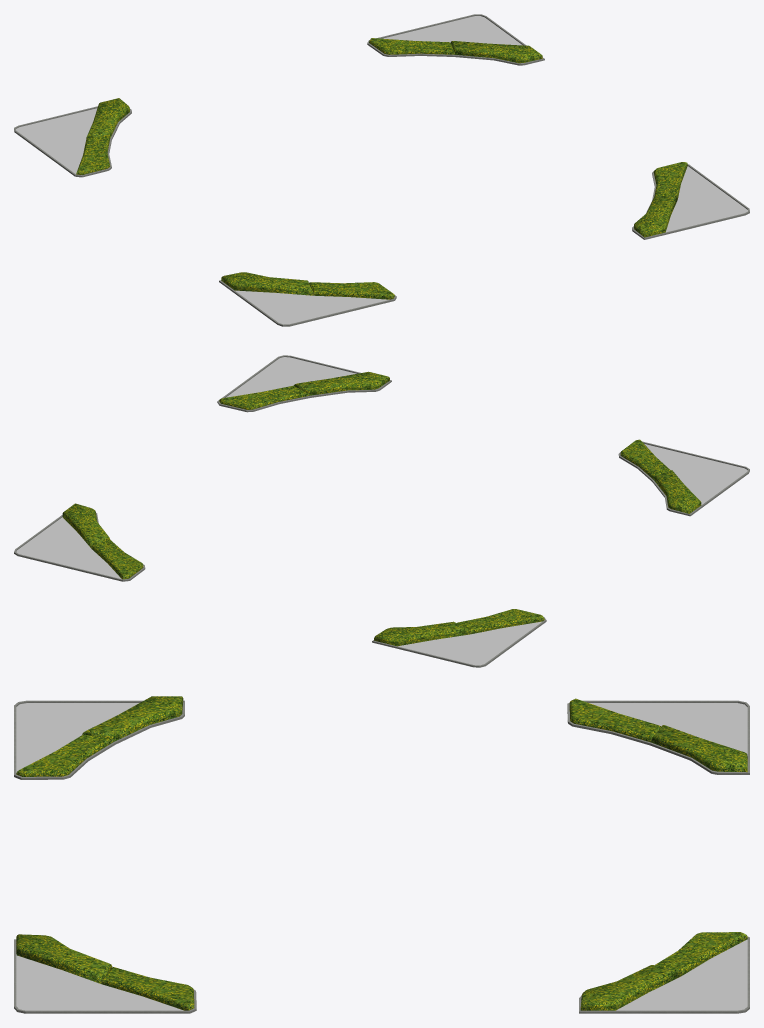
Rendered from Office_006_grass.FBX.
3 views of the same model, one above another, from view 1: azimuth 30°, elevation 25°; view 2: azimuth 150°, elevation 25°; view 3: azimuth 270°, elevation 25° (orthographic). The views are drawn at different scales.
Parts seen in each view (by area): view 1: Office_006_grass2, Office_006_grass1, Office_006_grass3; view 2: Office_006_grass2, Office_006_grass1, Office_006_grass3; view 3: Office_006_grass2, Office_006_grass1, Office_006_grass3.
Part boxes in pixels (left/top/right/bottom): Office_006_grass2: left=16, top=16, right=747, bottom=324; Office_006_grass1: left=76, top=38, right=687, bottom=299; Office_006_grass3: left=14, top=14, right=749, bottom=326; Office_006_grass2: left=16, top=357, right=747, bottom=665; Office_006_grass1: left=62, top=371, right=701, bottom=646; Office_006_grass3: left=14, top=355, right=749, bottom=667; Office_006_grass2: left=16, top=703, right=747, bottom=1010; Office_006_grass1: left=16, top=696, right=747, bottom=1010; Office_006_grass3: left=14, top=700, right=749, bottom=1013.
Size of the model in its own units: 96 by 1.25 by 96.
